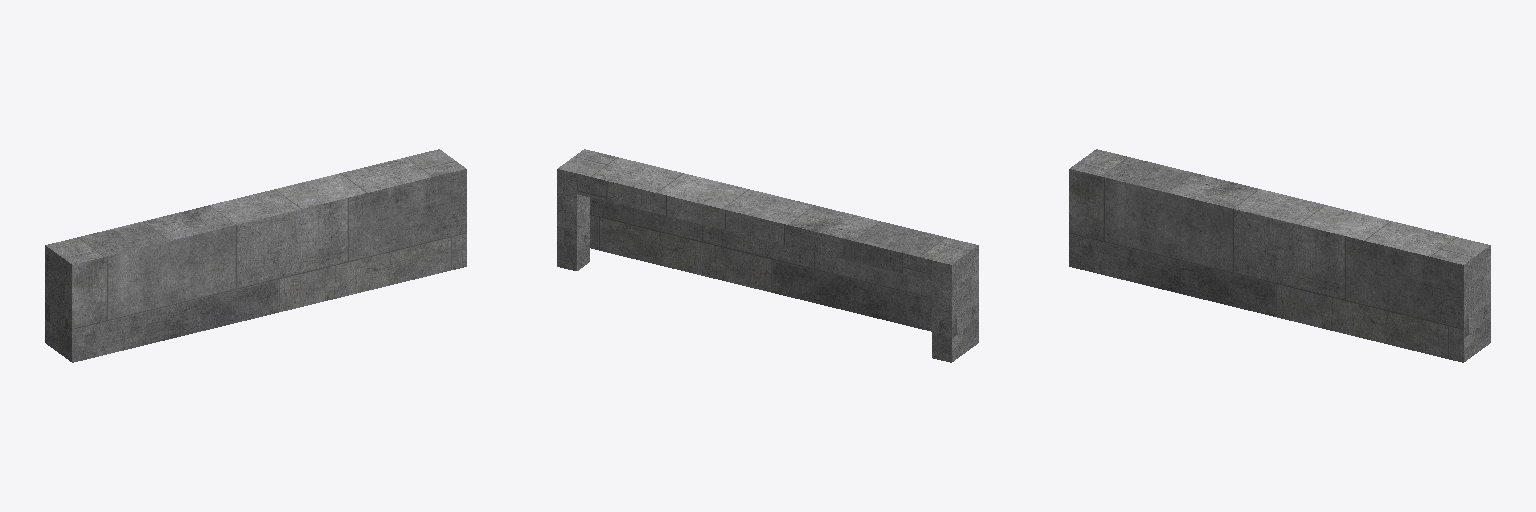
The picture shows the model from 3 angles: view 1: azimuth 30°, elevation 25°; view 2: azimuth 150°, elevation 25°; view 3: azimuth 330°, elevation 25°; orthographic projection.
Visible parts, largest first — view 1: Cube_Cube.001; view 2: Cube_Cube.001; view 3: Cube_Cube.001.
Boxes of the visible parts, <box> form: Cube_Cube.001: <box>45,149,466,362</box>; Cube_Cube.001: <box>557,149,978,362</box>; Cube_Cube.001: <box>1069,149,1490,362</box>.
Size of the model in its own units: 16 by 3.8 by 1.9.
Materials: 2 (1 with a texture image).